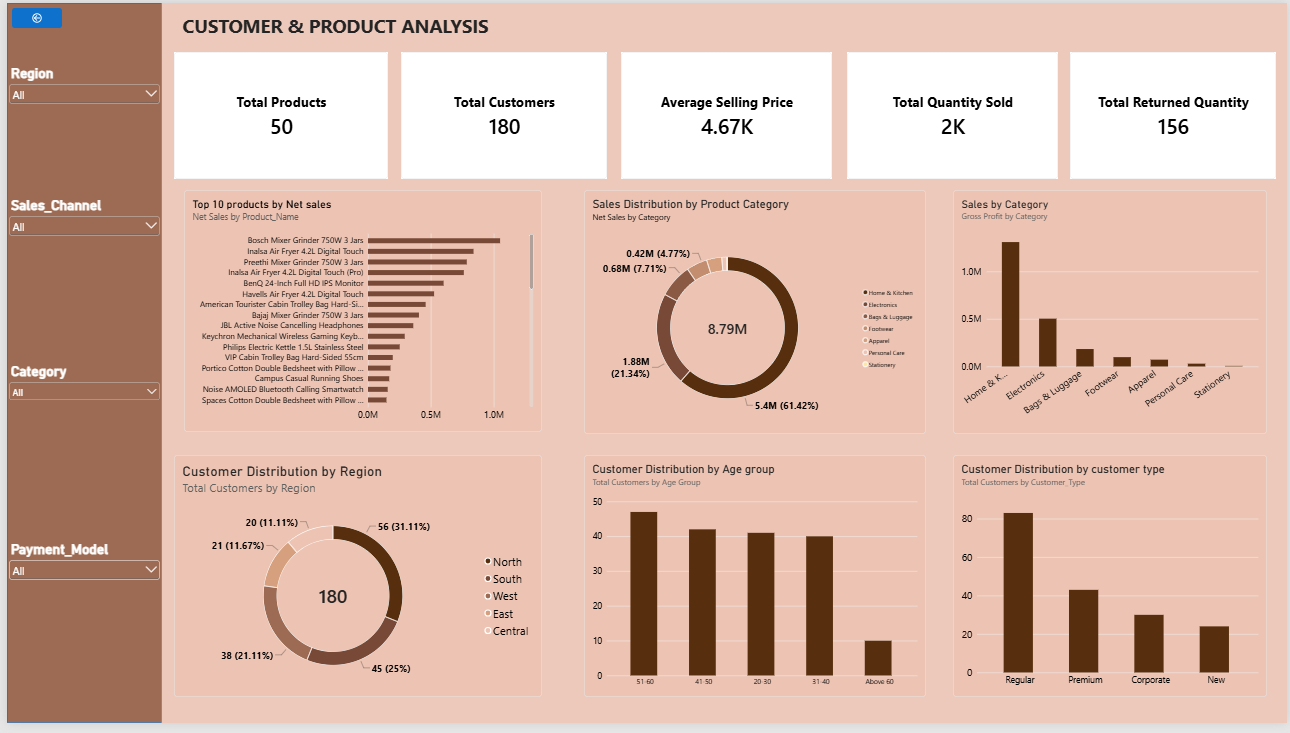

This screenshot's page, from the dashboard's own definition file:
{"tool":"powerbi","page":{"name":"Page 4","canvas":[2560,1440],"ordinal":3},"visuals":[{"type":"shape","box":[0,0,309.3,1439.5],"z":0},{"type":"actionButton","box":[10,10,100,40],"z":1},{"type":"textbox","box":[310,20,715,65],"z":2},{"type":"cardVisual","fields":{"Data":["Customer Data.Total Products"]},"box":[334,98,428,254],"z":3},{"type":"cardVisual","fields":{"Data":["Customer Data.Total Customers"]},"box":[788,98,412,254],"z":4},{"type":"cardVisual","fields":{"Data":["Customer Data.Average Selling Price"]},"box":[1228,98,422,254],"z":5},{"type":"cardVisual","fields":{"Data":["Calendar.Total Quantity Sold"]},"box":[1680,98,422,254],"z":6},{"type":"cardVisual","fields":{"Data":["Customer Data.Total Returned Quantity"]},"box":[2126,98,412,254],"z":7},{"type":"donutChart","title":"Sales Distribution by Product Category ","fields":{"Category":["Product Data.Category"],"Y":["Customer Data.Net Sales"]},"box":[1154,374,684,488],"z":8},{"type":"donutChart","title":"Customer Distribution by Region ","fields":{"Category":["Customer Data.Region"],"Y":["Customer Data.Total Customers"]},"box":[334,904,736,484],"z":9},{"type":"columnChart","title":"Customer Distribution by Age group ","fields":{"Category":["Customer Data.Age Group"],"Y":["Customer Data.Total Customers"]},"box":[1154,904,684,484],"z":10},{"type":"clusteredColumnChart","title":"Sales by Category ","fields":{"Category":["Product Data.Category"],"Y":["Customer Data.Gross Profit"]},"box":[1892,374,628,488],"z":11},{"type":"clusteredBarChart","title":"Top 10 products by Net sales","fields":{"Category":["Product Data.Product_Name"],"Y":["Customer Data.Net Sales"]},"box":[354,374,716,484],"z":12},{"type":"slicer","fields":{"Values":["Customer Data.Region"]},"box":[0,124,310,140],"z":13},{"type":"slicer","fields":{"Values":["Orders Data.Sales_Channel"]},"box":[0,388,310,140],"z":14},{"type":"slicer","fields":{"Values":["Product Data.Category"]},"box":[0,720,310,140],"z":15},{"type":"slicer","fields":{"Values":["Orders Data.Payment_Model"]},"box":[0,1076,310,140],"z":16},{"type":"clusteredColumnChart","title":"Customer Distribution by customer type ","fields":{"Category":["Customer Data.Customer_Type"],"Y":["Customer Data.Total Customers"]},"box":[1892,904,628,484],"z":17}]}

Visuals, with their boxes in screenshot pixels (x1, y1, x2, y2), scaled from the page's 2560x1440 canvas onto the 1290x733 screenshot:
shape: [0,0,156,732]
actionButton: [5,5,55,25]
textbox: [156,10,517,43]
cardVisual - Customer Data.Total Products: [168,50,384,179]
cardVisual - Customer Data.Total Customers: [397,50,605,179]
cardVisual - Customer Data.Average Selling Price: [619,50,831,179]
cardVisual - Calendar.Total Quantity Sold: [847,50,1059,179]
cardVisual - Customer Data.Total Returned Quantity: [1071,50,1279,179]
"Sales Distribution by Product Category " donutChart: [582,190,926,439]
"Customer Distribution by Region " donutChart: [168,460,539,707]
"Customer Distribution by Age group " columnChart: [582,460,926,707]
"Sales by Category " clusteredColumnChart: [953,190,1270,439]
"Top 10 products by Net sales" clusteredBarChart: [178,190,539,437]
slicer - Customer Data.Region: [0,63,156,134]
slicer - Orders Data.Sales_Channel: [0,198,156,269]
slicer - Product Data.Category: [0,366,156,438]
slicer - Orders Data.Payment_Model: [0,548,156,619]
"Customer Distribution by customer type " clusteredColumnChart: [953,460,1270,707]
